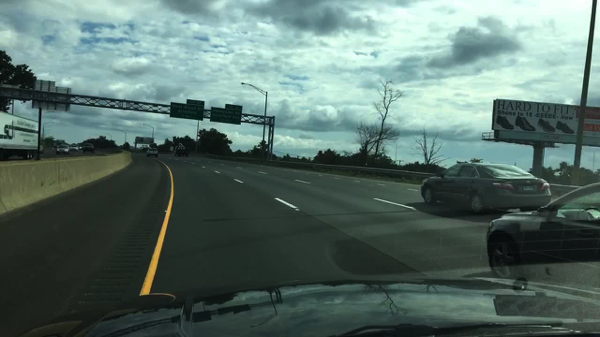car: (487, 180, 598, 282), (421, 162, 551, 216), (56, 145, 72, 155), (146, 148, 159, 157), (83, 144, 94, 153), (70, 145, 78, 151), (39, 146, 44, 153)
traffic sign: (32, 80, 71, 110), (169, 103, 205, 121), (169, 103, 204, 120), (210, 107, 242, 125), (135, 136, 154, 145), (225, 103, 244, 110), (184, 100, 205, 105), (56, 140, 66, 144)
truck: (0, 112, 39, 160), (174, 143, 189, 157)
